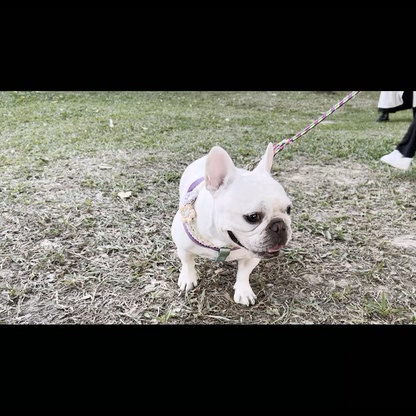bulldog: (170, 139, 298, 307)
